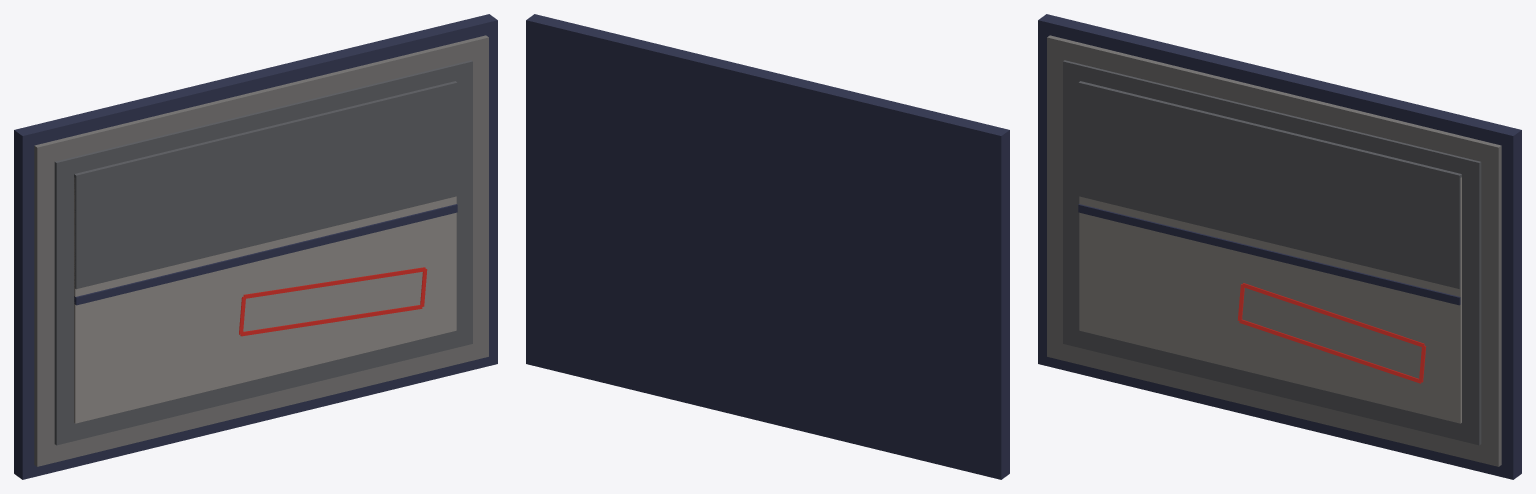
The model's file is painel_em_revisao_v3.glb.
3 views of the same model, side by side, from view 1: azimuth 30°, elevation 25°; view 2: azimuth 150°, elevation 25°; view 3: azimuth 330°, elevation 25° (orthographic).
Visible parts, largest first — view 1: Moldura_0, _MeshInstance3D_1875_3, _MeshInstance3D_1874_4; view 2: Moldura_0; view 3: Moldura_0, _MeshInstance3D_1874_4, _MeshInstance3D_1875_3.
Part boxes in pixels (x1,y1,x2,y2): Moldura_0: (14,14,497,479); _MeshInstance3D_1875_3: (240,305,422,336); _MeshInstance3D_1874_4: (243,267,425,298); Moldura_0: (526,14,1009,479); Moldura_0: (1038,14,1521,479); _MeshInstance3D_1874_4: (1242,283,1424,346); _MeshInstance3D_1875_3: (1239,319,1421,383).
Size of the model in its own units: 1.62 by 1.12 by 0.101.
